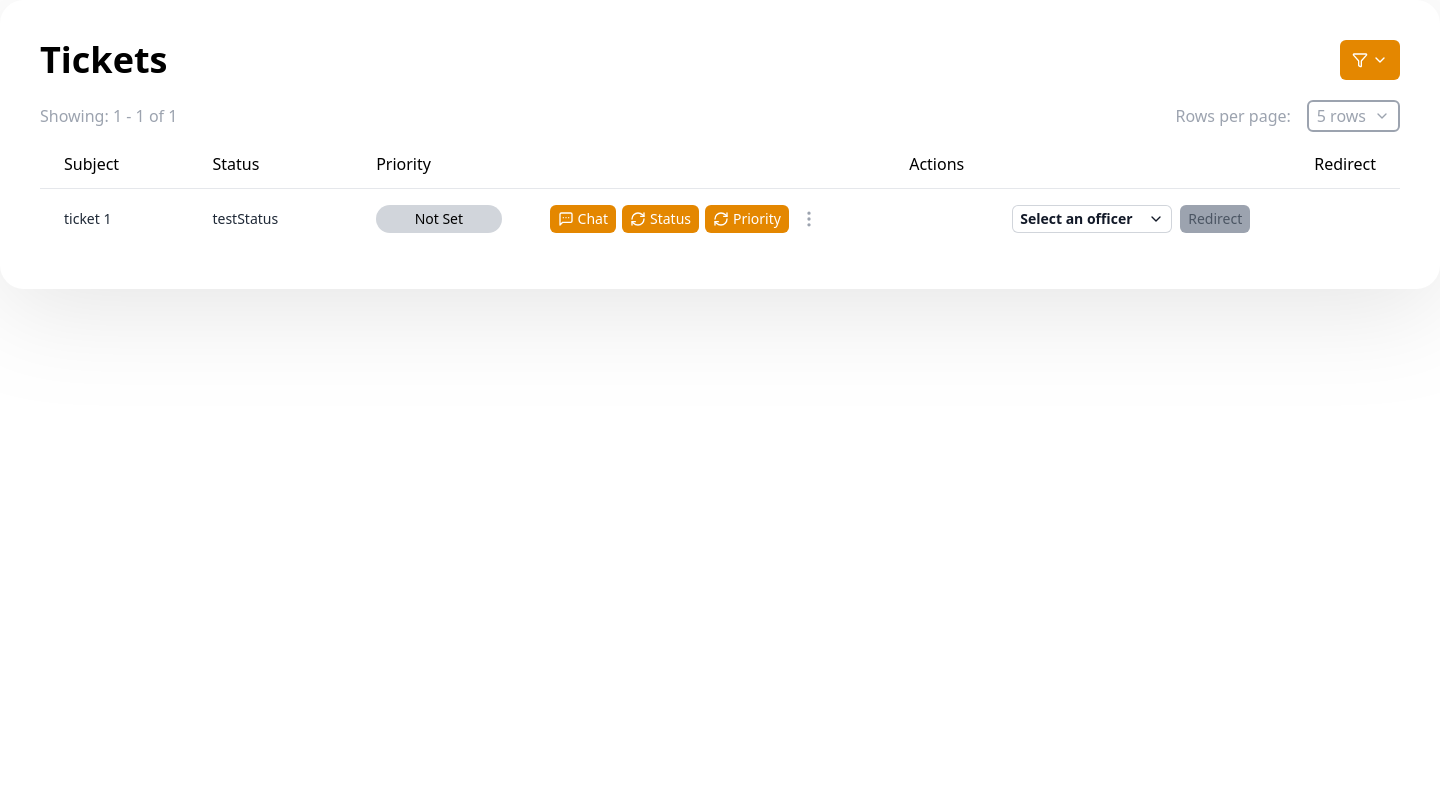
Test case: TicketsCard - rendering › TicketsCard - Popup › Change date popup
The width and height of the screenshot is (1440, 810).
Note: Open the More Actions dropdown
Click the button with test id "more-actions-dropdown". click: coordinates (809, 219)
box: [795,205,823,233]
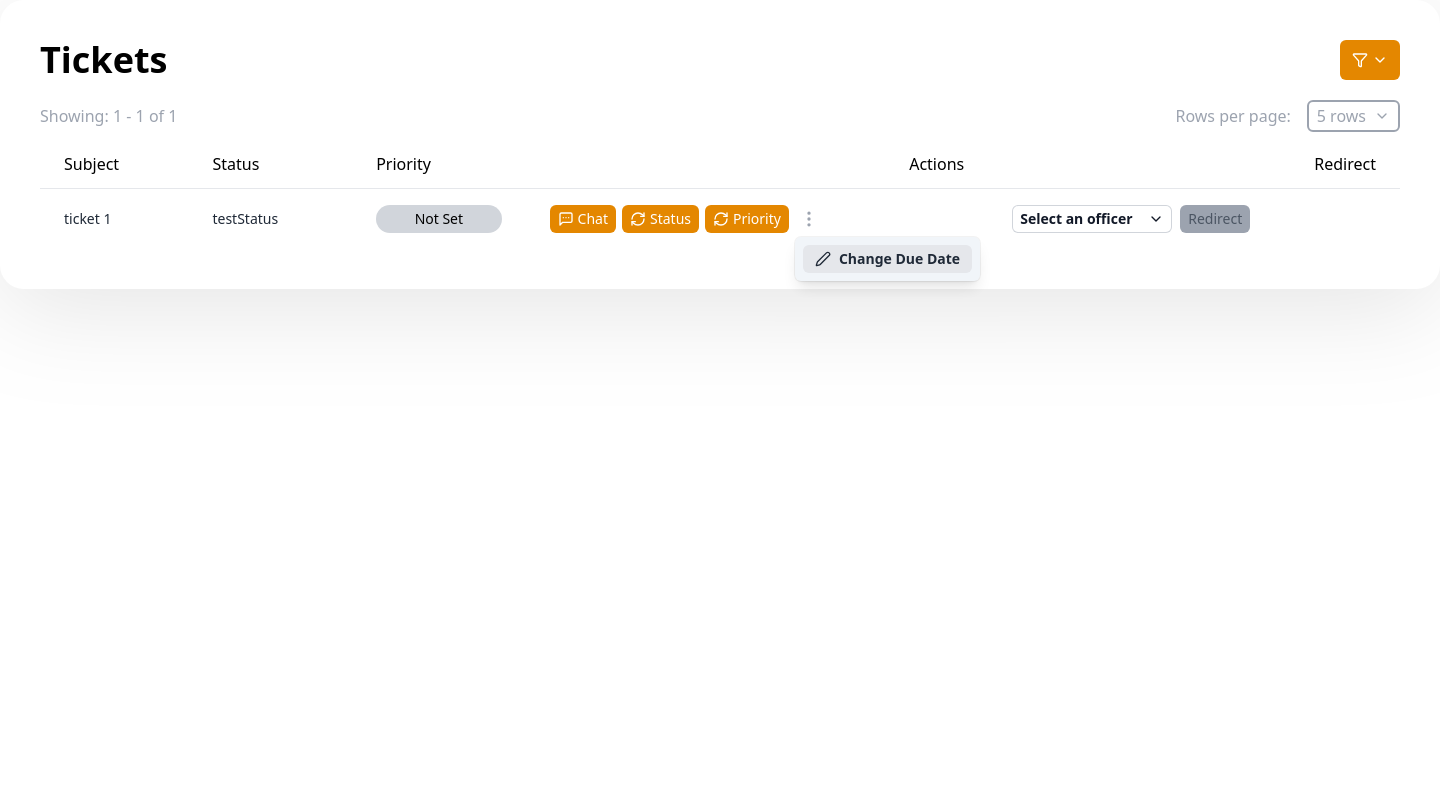
Click the button "Change Due Date". click: coordinates (888, 259)
box: [803,245,972,273]
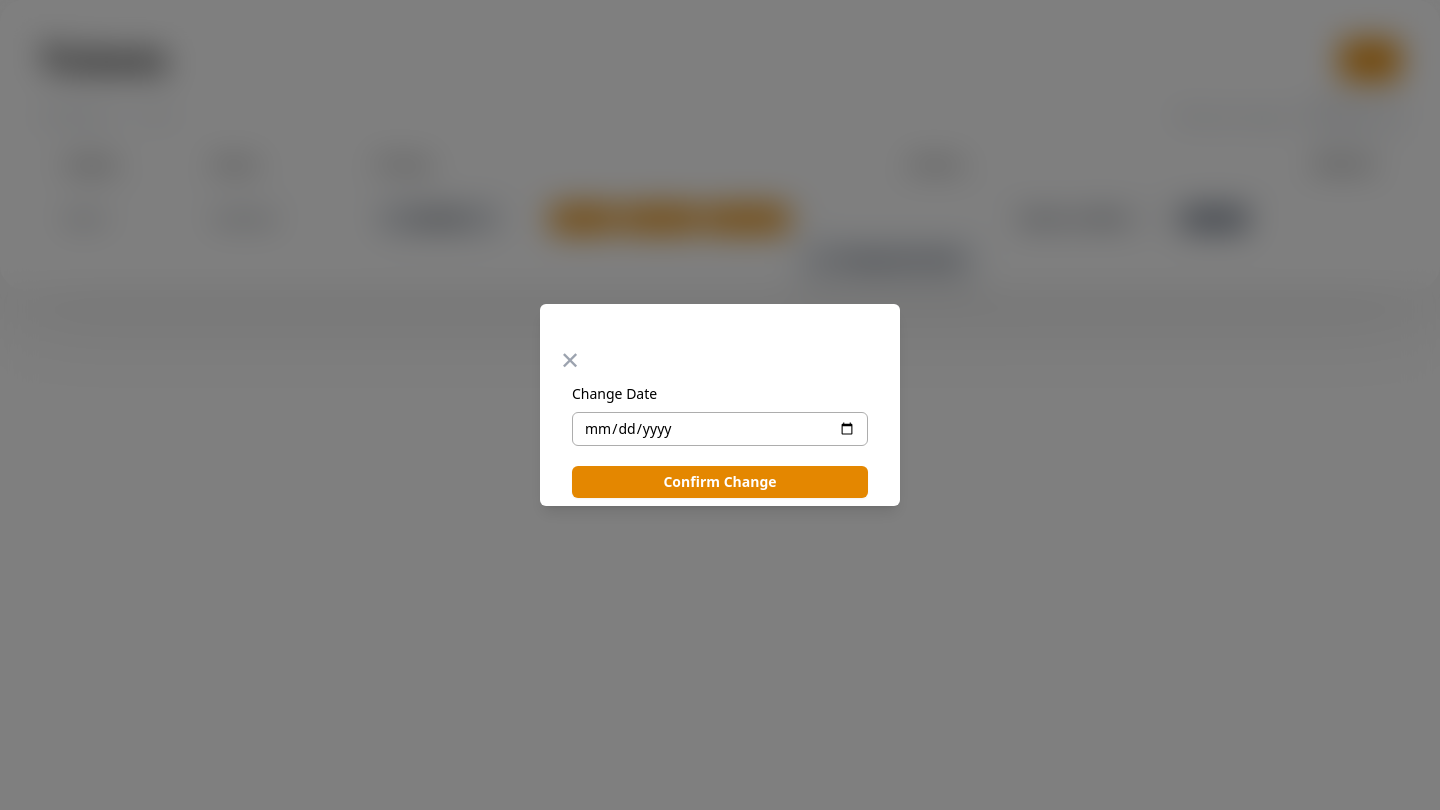
Result: the text "Change Date" is shown at [572,384,657,403]
